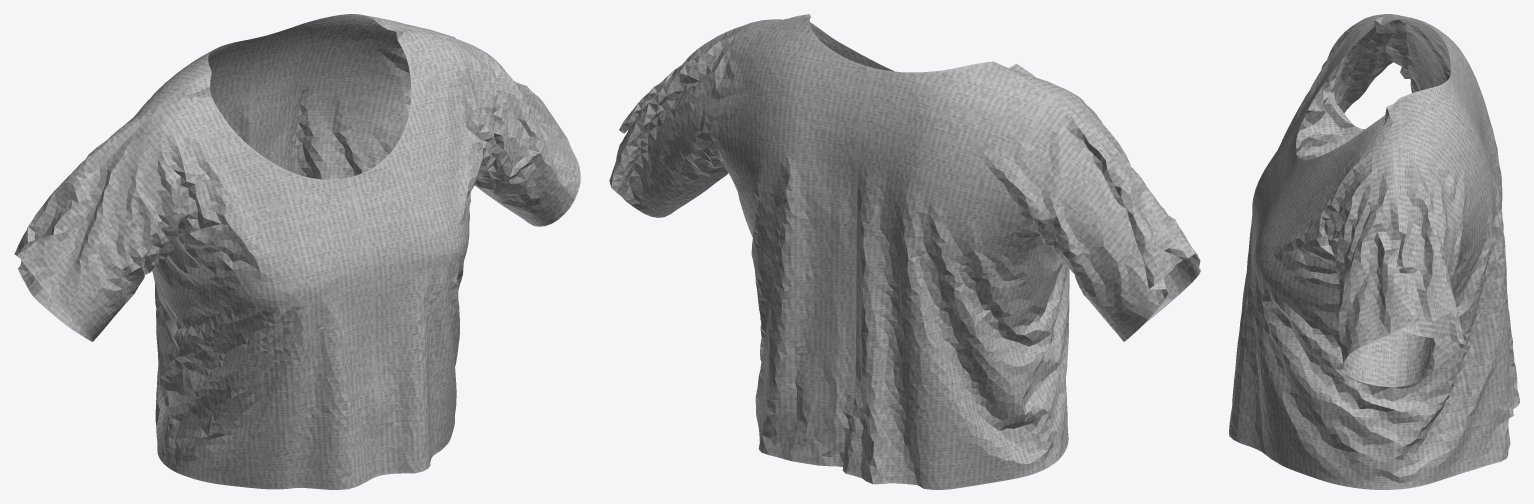
Rendered from bust_plus_1cm_sim.obj.
3 views of the same model, side by side, from view 1: azimuth 30°, elevation 25°; view 2: azimuth 150°, elevation 25°; view 3: azimuth 270°, elevation 25° (orthographic). The views are drawn at different scales.
Bounding box in the file's own units: 68.06 × 45.83 × 32.37.
1 material, 1 textured.
